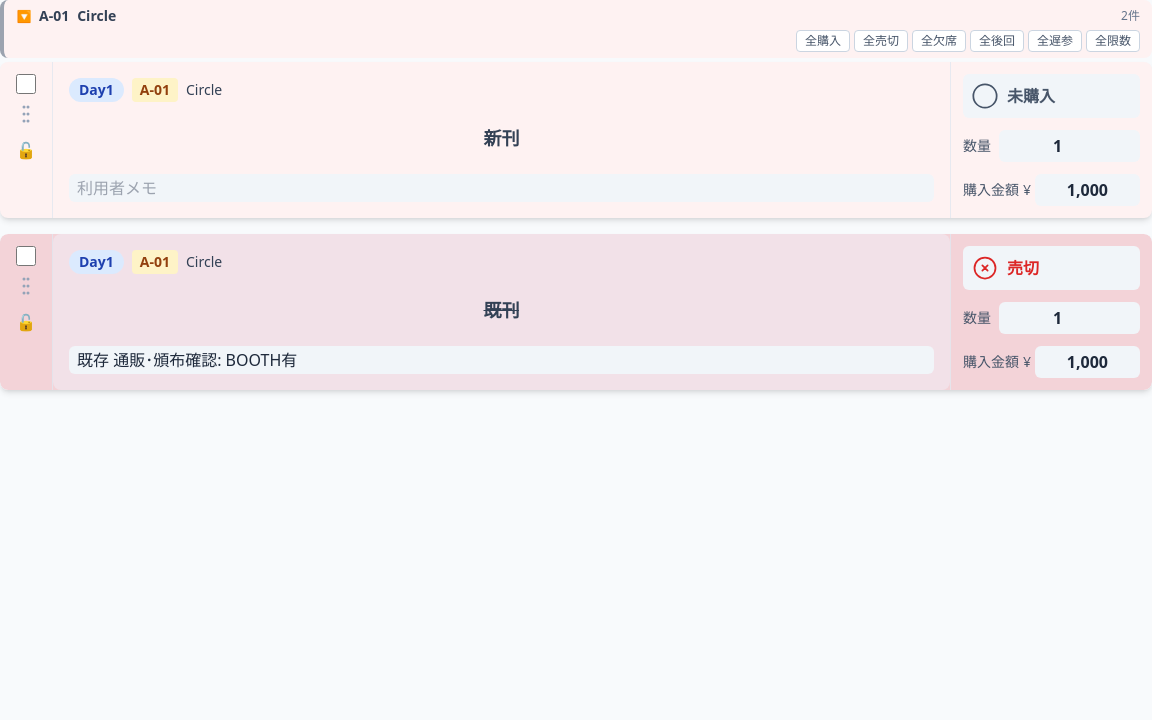
Scenario: ShoppingList purchase status control mode › records bulk sold-out check answers for the selected display group items
Click the button "全売切".
click(881, 41)  # box [854,30,908,52]
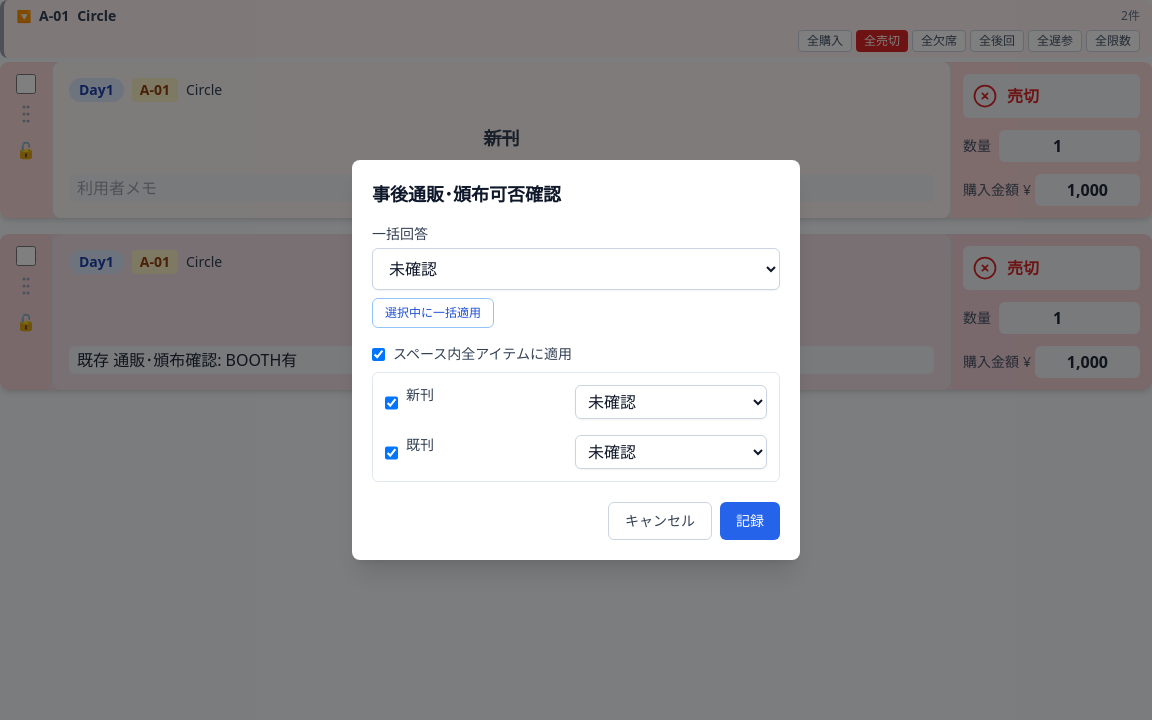
Now the dialog "事後通販･頒布可否確認" is shown, box [352,160,800,560]
Now the checkbox labelled "スペース内全アイテムに適用" is checked, box [372,348,385,360]
Now the text "既刊" is shown, box [406,435,434,454]
Select "通販有(メロン等)" in the dropdown labelled "一括回答" at (576,269), box [372,248,780,290]
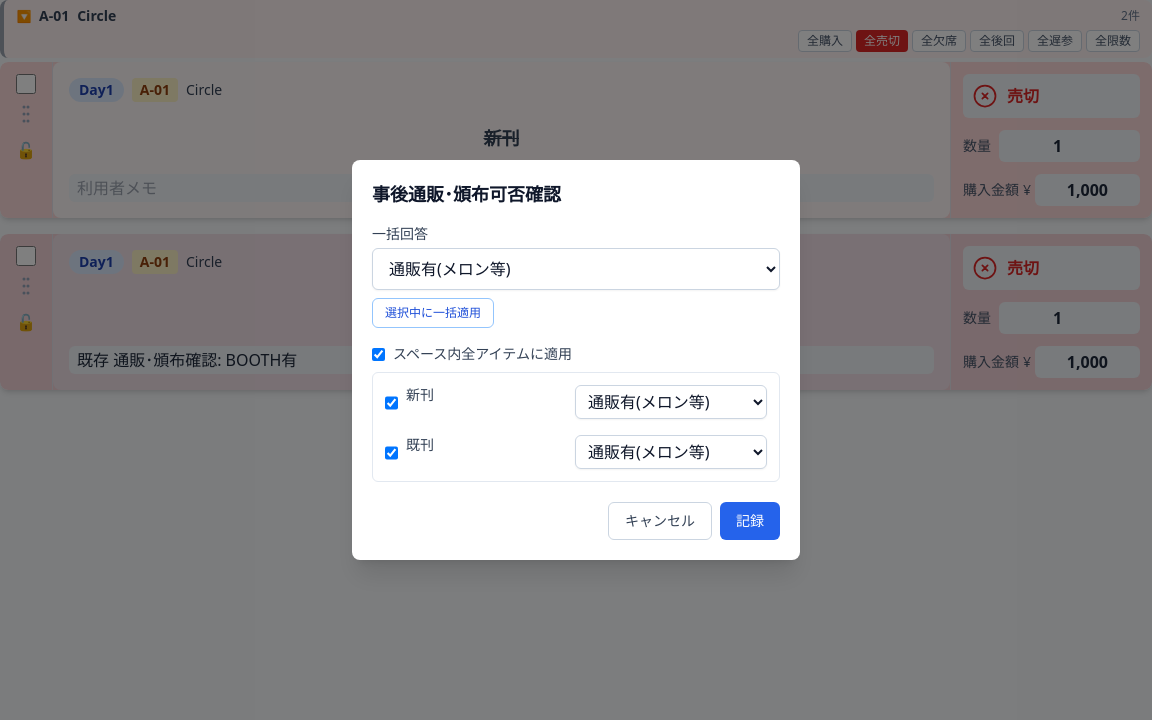
Click the button "記録".
click(750, 521)  # box [720,502,780,540]
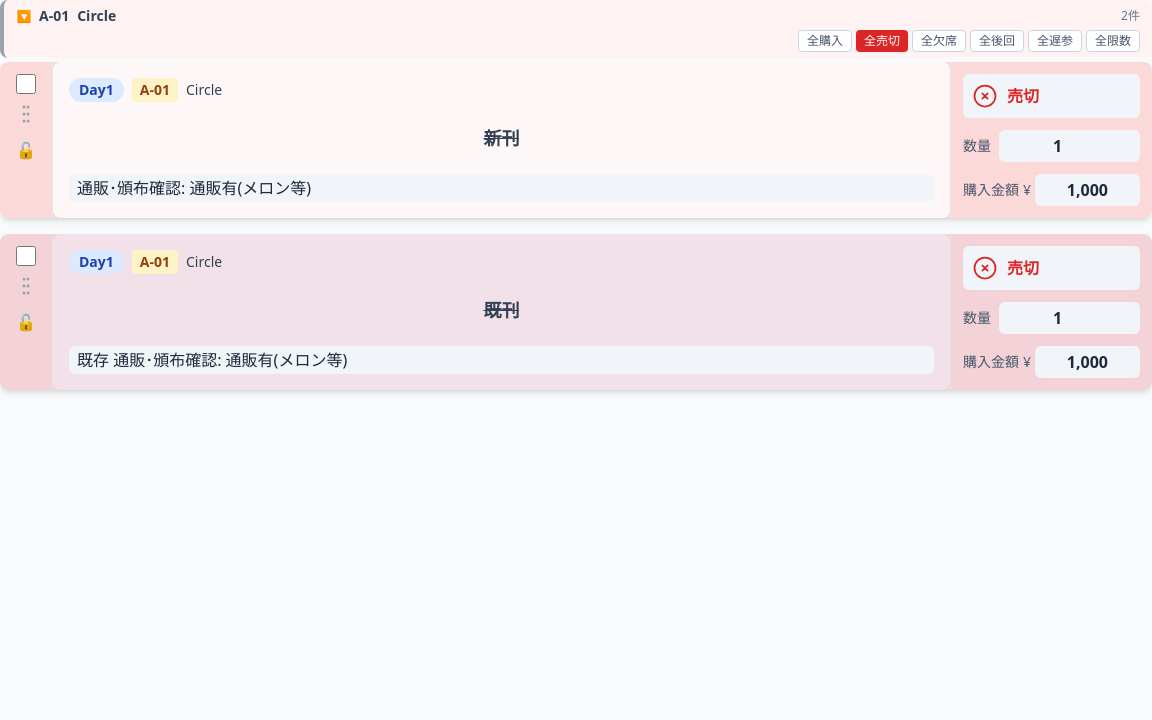
Now the 1st field named "利用者メモ" holds "通販･頒布確認: 通販有(メロン等)", box [69,174,934,202]
Now the 2nd field named "利用者メモ" holds "既存 通販･頒布確認: 通販有(メロン等)", box [69,346,934,374]
